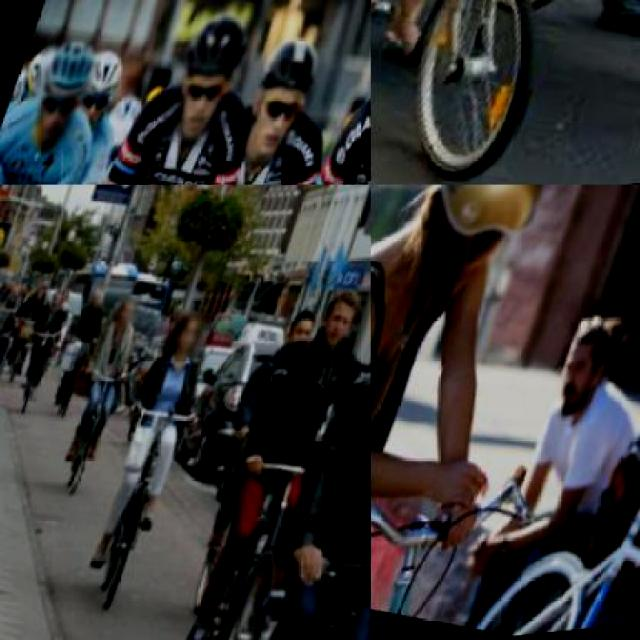With Helmet: (411, 185, 580, 306), (152, 0, 272, 165), (228, 23, 338, 183), (15, 23, 113, 159), (69, 45, 133, 140)
Without Helmet: (317, 288, 369, 370), (164, 312, 218, 372), (112, 296, 146, 338), (87, 286, 113, 320)
